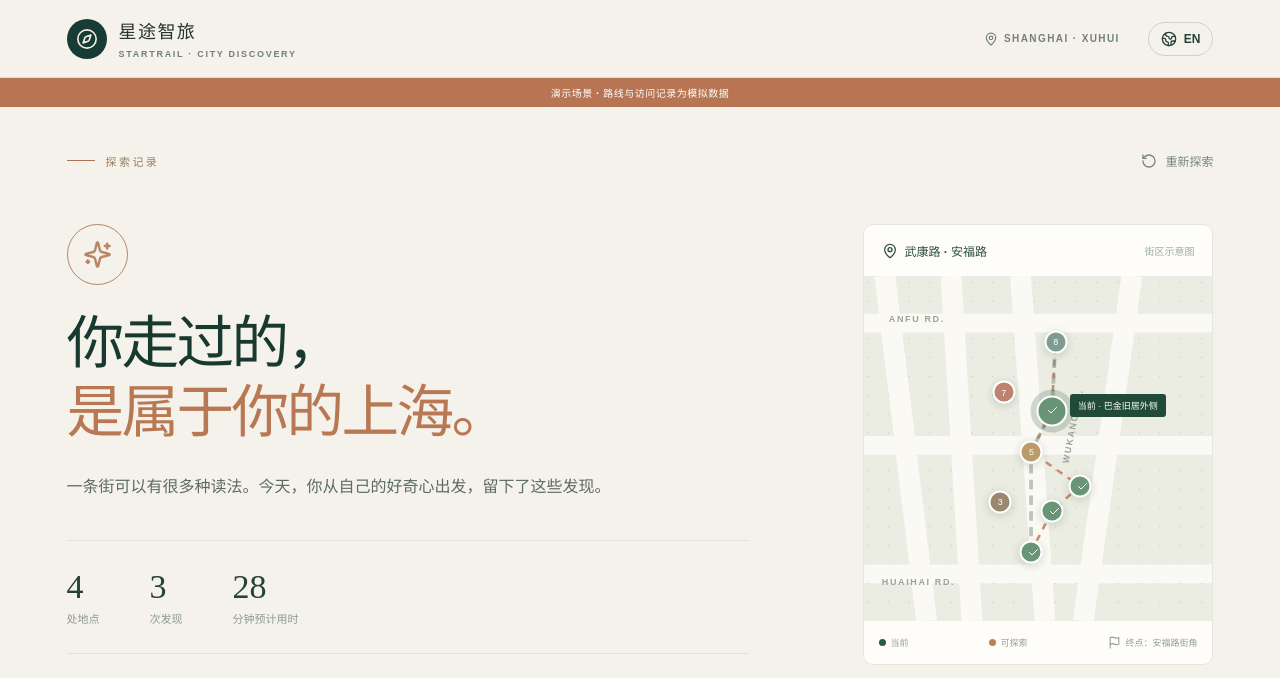
Test: recovery and accurate records › does not replace a saved walk with demo data, and can exit the demo
The width and height of the screenshot is (1280, 678).
Click the button "重新探索".
click(1177, 160)  # box top-left (1141, 152), bottom-right (1213, 169)
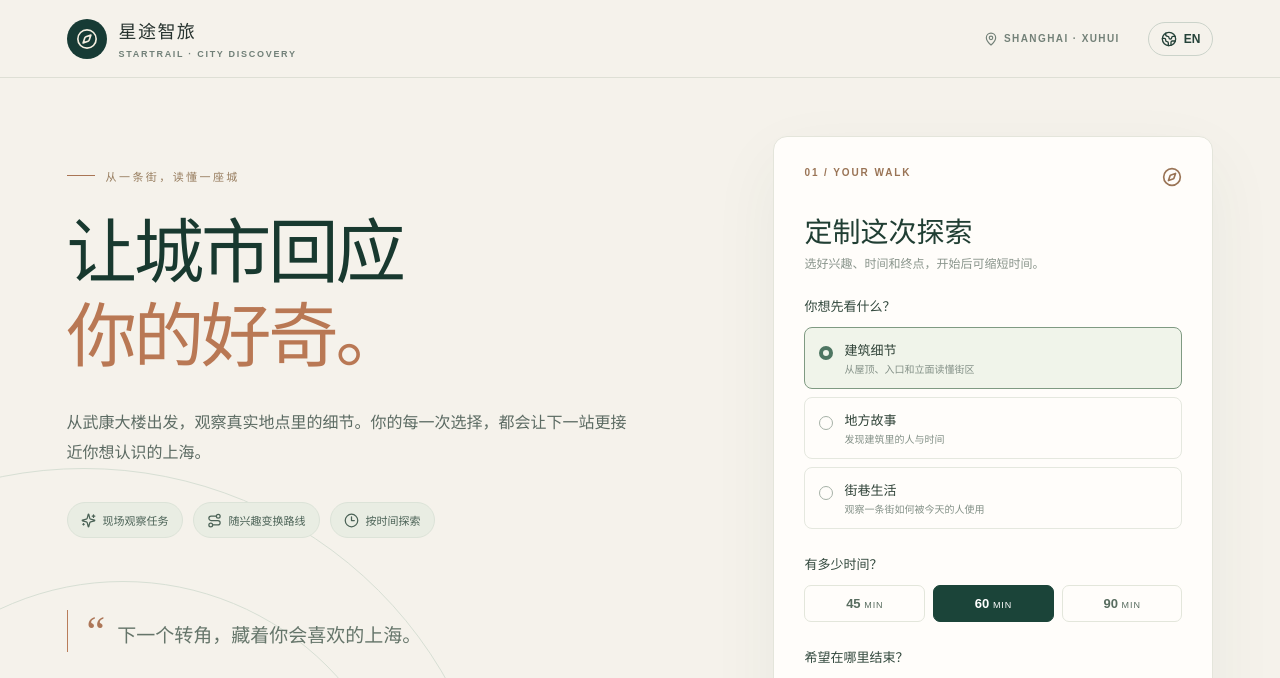
Result: the text "演示场景 ·" is gone
